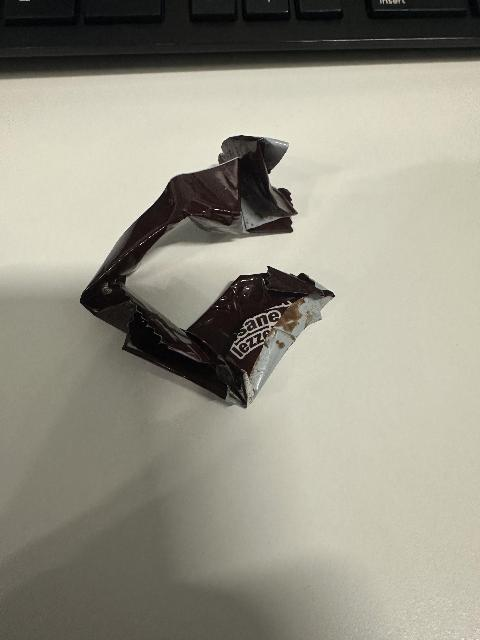Plastik: (79, 140, 337, 408)
